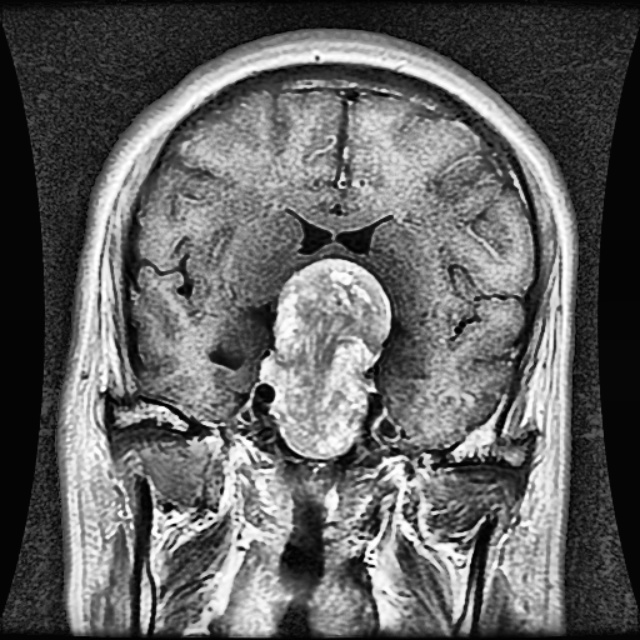Pituitary: (264, 259, 388, 453)
